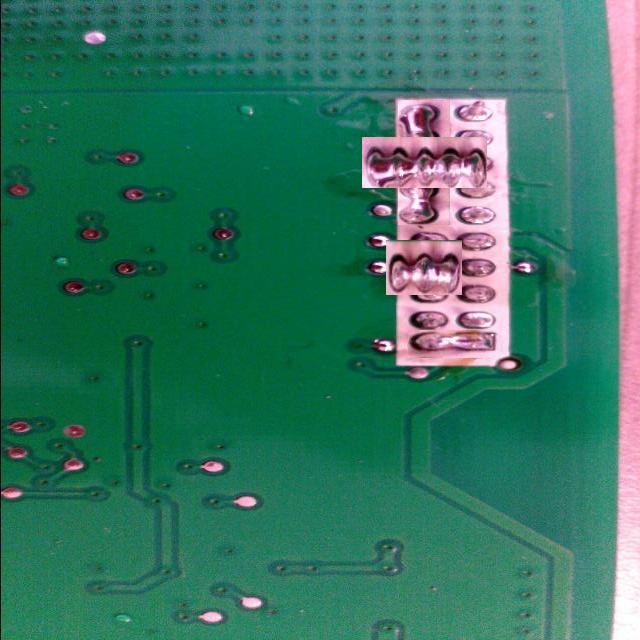Short_circuit: (380, 118, 469, 207), (391, 234, 456, 300), (408, 330, 501, 358)
